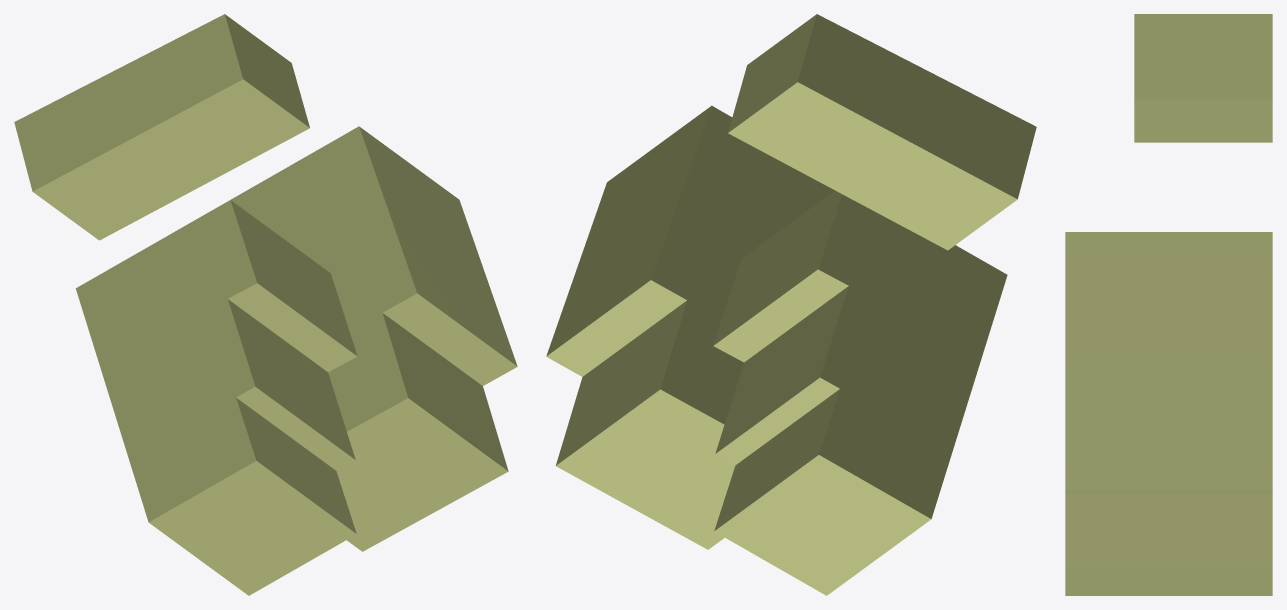
3 renders of one model, left to right at view 1: azimuth 30°, elevation 25°; view 2: azimuth 150°, elevation 25°; view 3: azimuth 270°, elevation 25°, orthographic. The views are drawn at different scales.
Parts seen in each view (by area): view 1: 0_1_0_0_1_0_1_0_3_3; view 2: 0_1_0_0_1_0_1_0_3_3; view 3: 0_1_0_0_1_0_1_0_3_3.
Boxes of the visible parts, left/top/right/bottom form: 0_1_0_0_1_0_1_0_3_3: left=14, top=14, right=517, bottom=595; 0_1_0_0_1_0_1_0_3_3: left=546, top=14, right=1036, bottom=595; 0_1_0_0_1_0_1_0_3_3: left=1065, top=14, right=1272, bottom=595.
Size of the model in its own units: 20.86 by 24.23 by 9.
